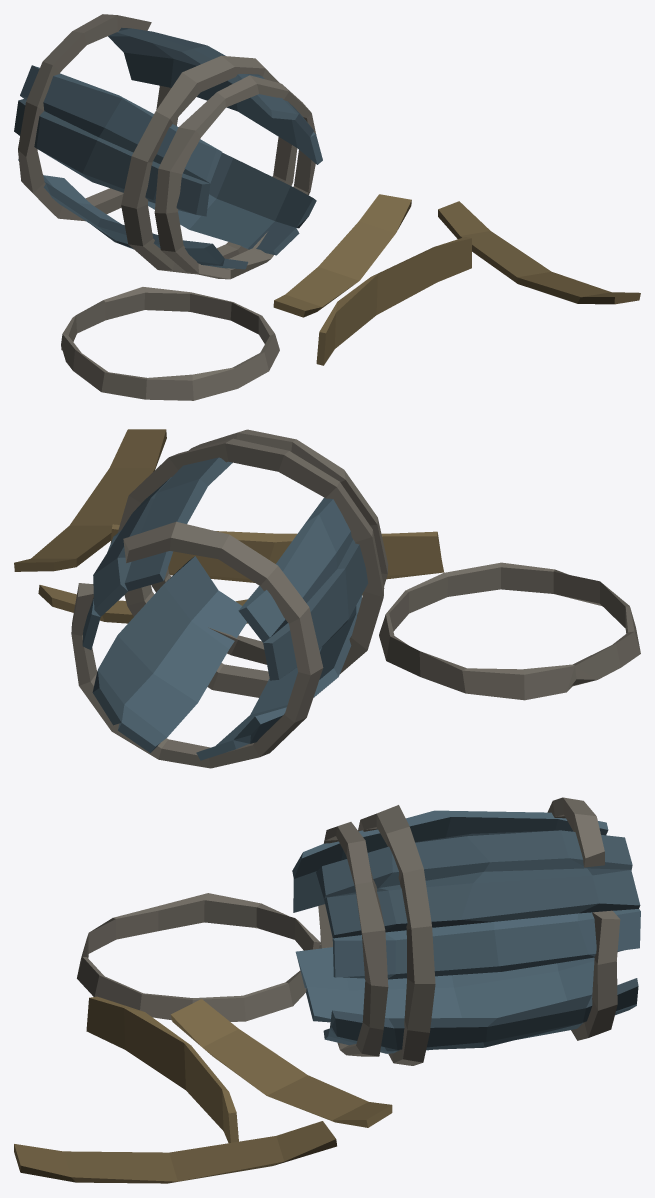
File: Trash_1.fbx
3 renders of one model, top to bottom at view 1: azimuth 30°, elevation 25°; view 2: azimuth 150°, elevation 25°; view 3: azimuth 270°, elevation 25°, orthographic. The views are drawn at different scales.
Parts seen in each view (by area): view 1: Trash_1; view 2: Trash_1; view 3: Trash_1.
Boxes of the visible parts, x1=… form: Trash_1: x1=14, y1=14, x2=640, y2=400; Trash_1: x1=14, y1=429, x2=640, y2=768; Trash_1: x1=14, y1=797, x2=640, y2=1183.
Bounding box in the file's own units: 188 × 76.19 × 183.
